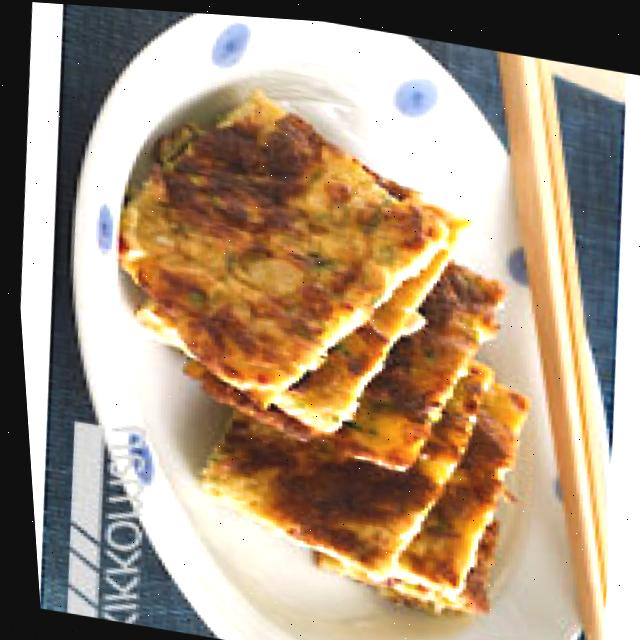鸡蛋料理: (116, 67, 570, 635)
